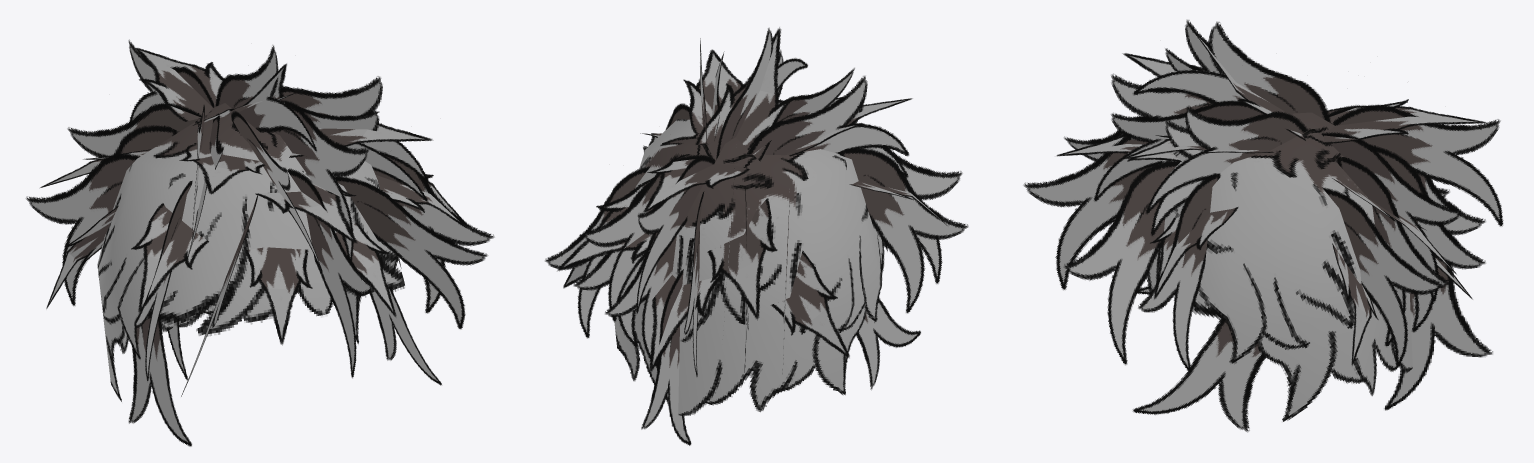
The model's file is SKUNK_PSX2.glb.
The picture shows the model from 3 angles, left to right: view 1: azimuth 30°, elevation 25°; view 2: azimuth 150°, elevation 25°; view 3: azimuth 270°, elevation 25°; orthographic projection. The views are drawn at different scales.
Visible parts, largest first — view 1: hair.002; view 2: hair.002; view 3: hair.002.
Part boxes in pixels (box(x1,y1,x2,y2)): hair.002: box(26, 39, 494, 446); hair.002: box(545, 27, 968, 445); hair.002: box(1023, 20, 1503, 432).
Bounding box in the file's own units: 0.7371 × 0.768 × 0.8908.
1 material, 1 textured.
